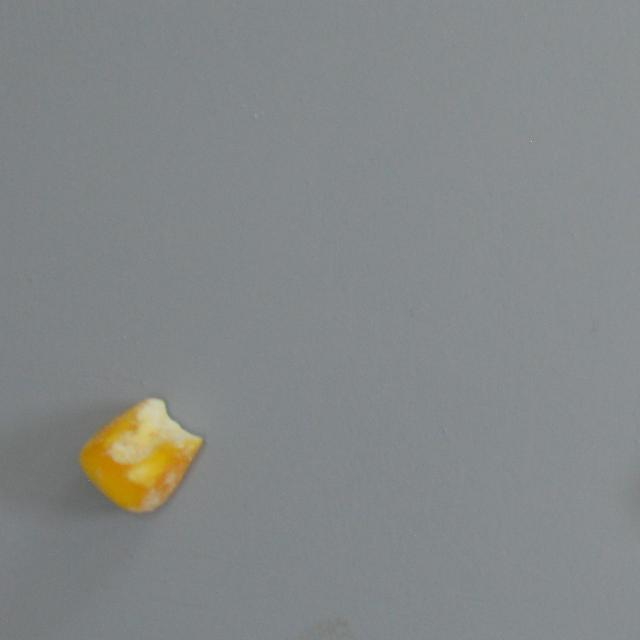pelicula: (75, 396, 203, 514)
